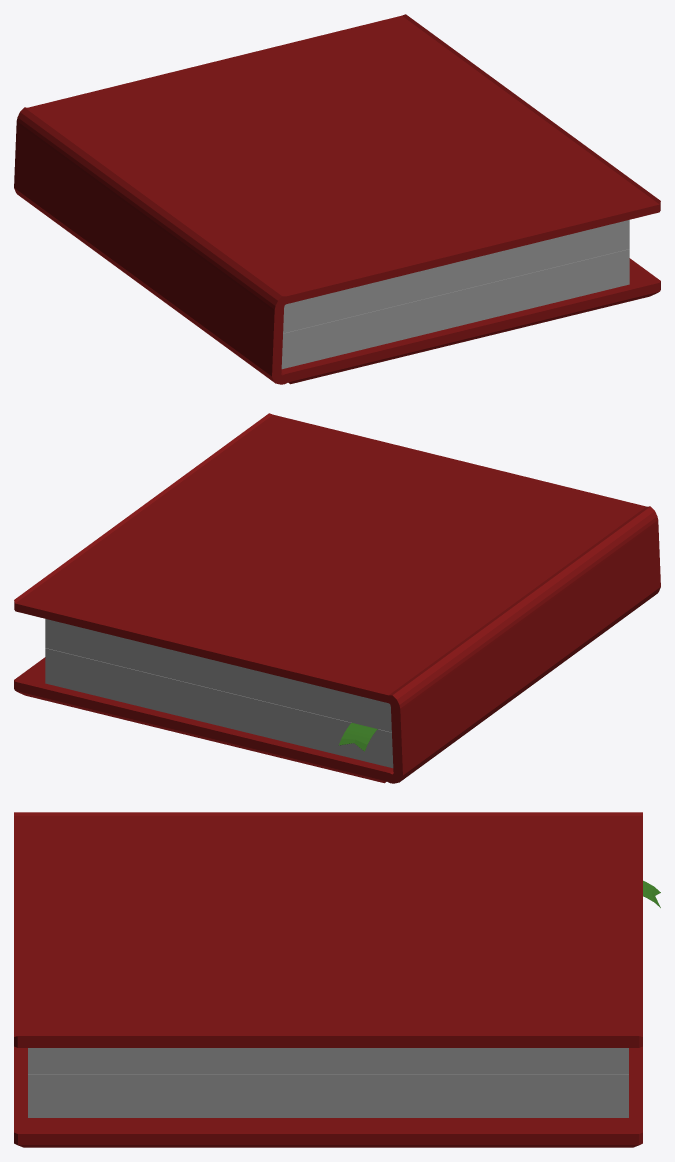
The model's file is book1.obj.
3 views of the same model, one above another, from view 1: azimuth 30°, elevation 25°; view 2: azimuth 150°, elevation 25°; view 3: azimuth 270°, elevation 25° (orthographic). The views are drawn at different scales.
Parts seen in each view (by area): view 1: Mesh; view 2: Mesh; view 3: Mesh.
Boxes of the visible parts, box(x1,y1,x2,y2) form: Mesh: box(14, 14, 660, 384); Mesh: box(14, 413, 660, 783); Mesh: box(14, 812, 660, 1147).
Size of the model in its own units: 8.75 by 2.05 by 10.29.
